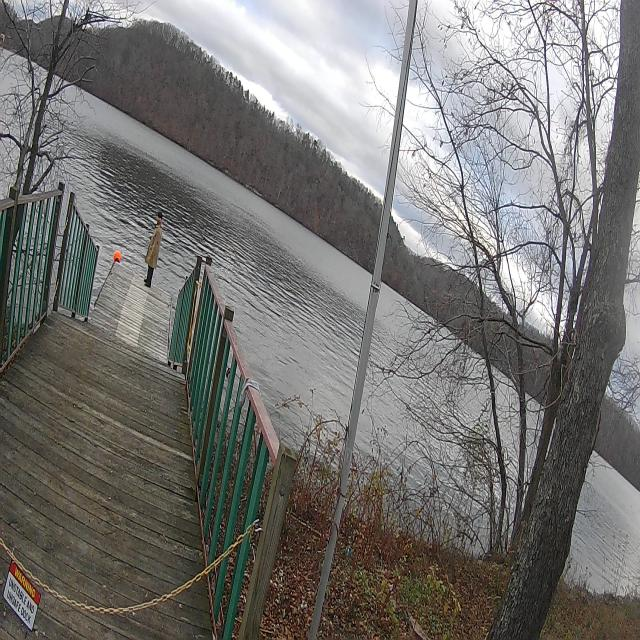Buoy: (113, 246, 123, 268)
